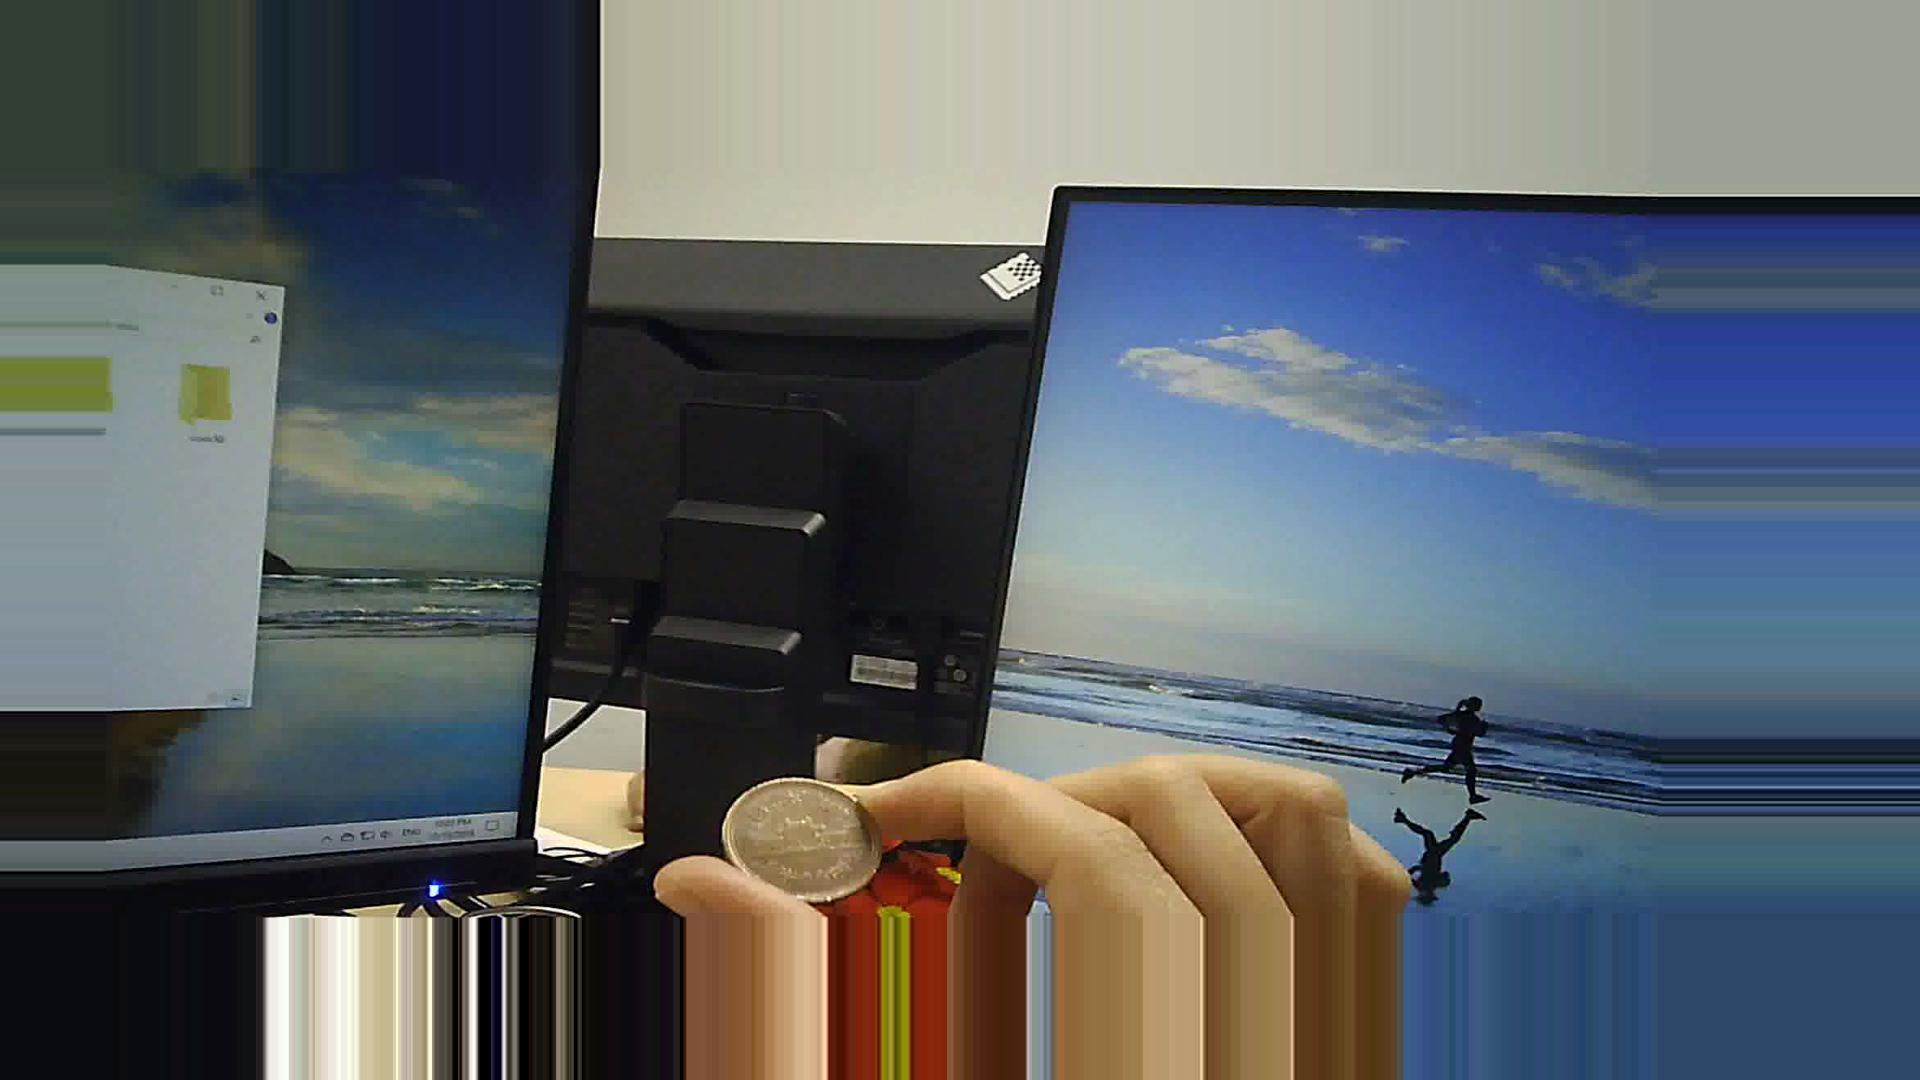10 Yen: (723, 767, 901, 913)
